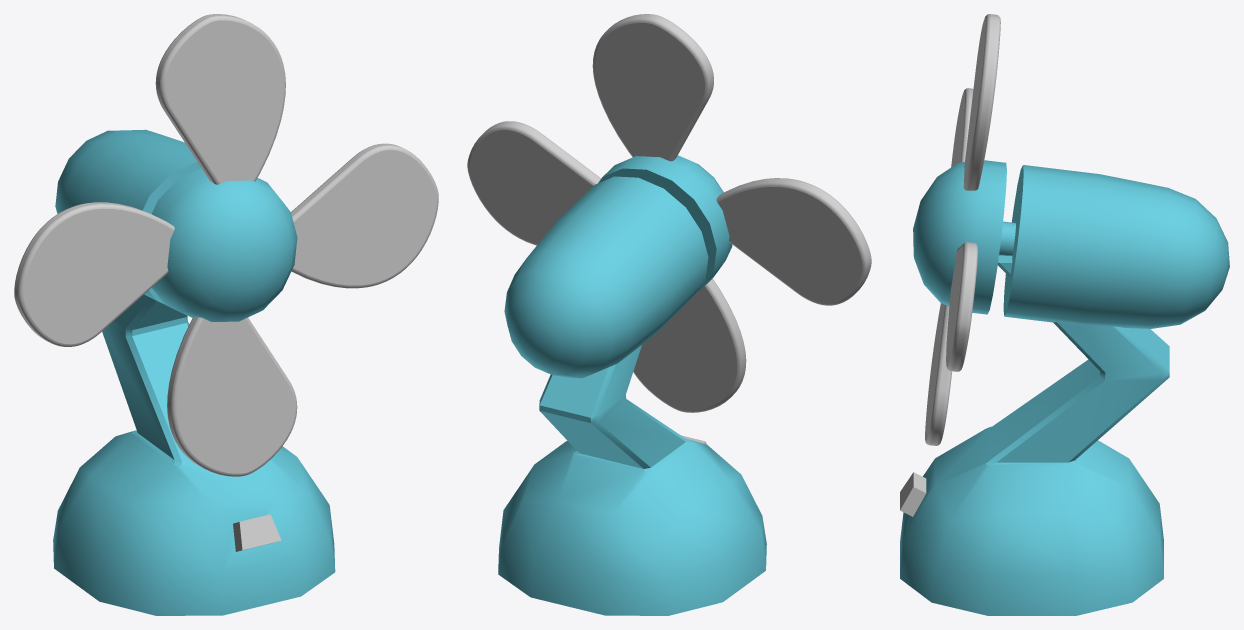
File: Asset026_Ventilador.fbx
3 renders of one model, left to right at view 1: azimuth 30°, elevation 25°; view 2: azimuth 150°, elevation 25°; view 3: azimuth 270°, elevation 25°, orthographic. The views are drawn at different scales.
Parts seen in each view (by area): view 1: Sphere, Capsule_1, Extrude_0, Extrude_3, Extrude_2, Extrude_1, Capsule; view 2: Sphere, Capsule, Extrude_3, Extrude_0, Extrude_1, Extrude_2, Capsule_1; view 3: Sphere, Capsule, Capsule_1, Extrude_0, Extrude_1, Extrude_2, Extrude_3.
Part boxes in pixels (box(x1,y1,x2,y2)): Sphere: box(53, 294, 335, 615); Capsule_1: box(151, 168, 297, 321); Extrude_0: box(155, 14, 285, 184); Extrude_3: box(14, 202, 174, 346); Extrude_2: box(167, 317, 297, 476); Extrude_1: box(291, 143, 438, 288); Capsule: box(55, 129, 201, 304); Sphere: box(498, 345, 766, 615); Capsule: box(504, 176, 708, 378); Extrude_3: box(716, 178, 871, 305); Extrude_0: box(592, 14, 713, 161); Extrude_1: box(467, 121, 601, 245); Extrude_2: box(633, 278, 746, 412); Capsule_1: box(598, 155, 732, 290); Sphere: box(900, 255, 1169, 615); Capsule: box(999, 165, 1229, 328); Capsule_1: box(913, 160, 1006, 314); Extrude_0: box(963, 14, 1000, 190); Extrude_1: box(946, 242, 977, 371); Extrude_2: box(925, 303, 952, 445); Extrude_3: box(951, 88, 973, 167).
Size of the model in its own units: 75.61 by 95.7 by 52.9.
